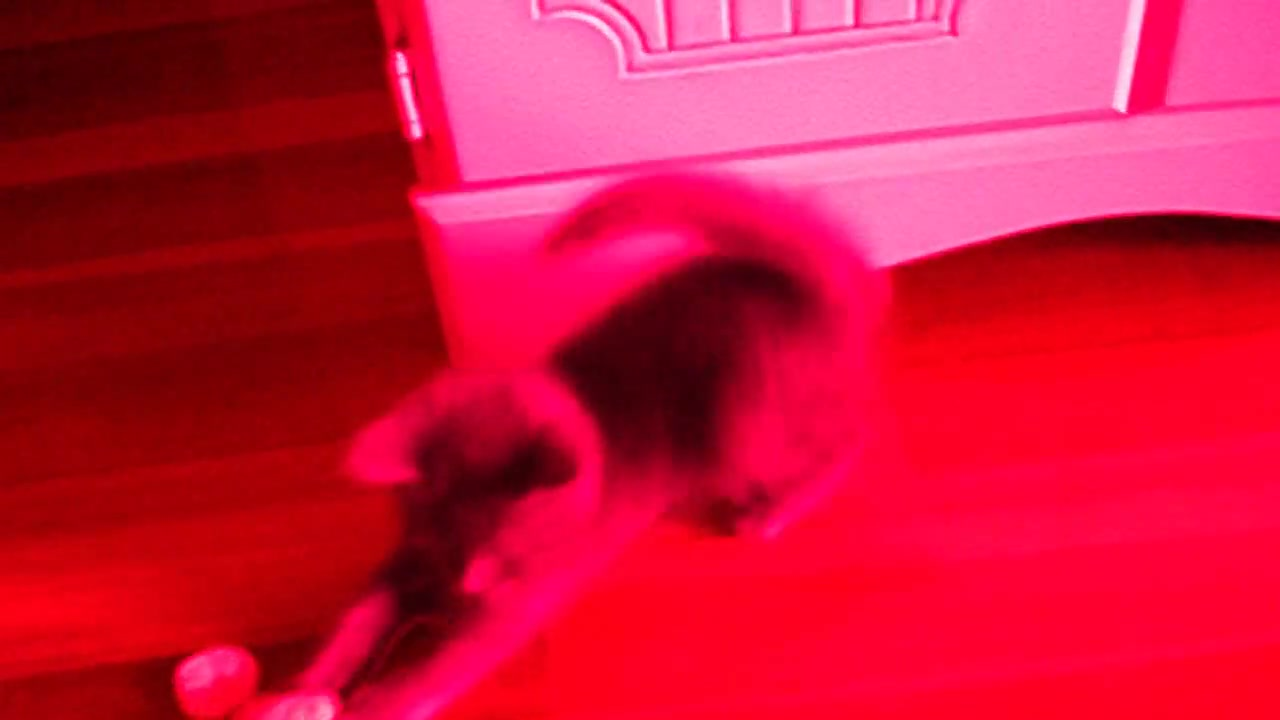cat: (281, 161, 903, 720)
